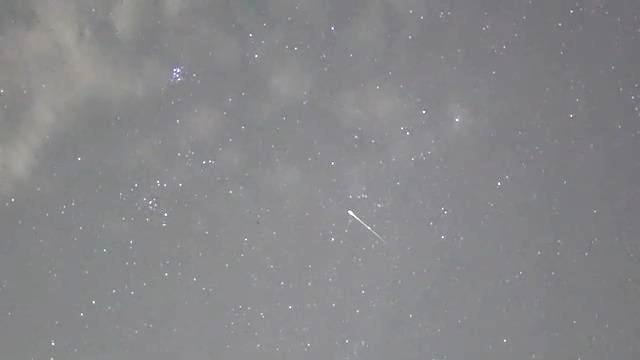meteorite: (325, 203, 404, 244)
